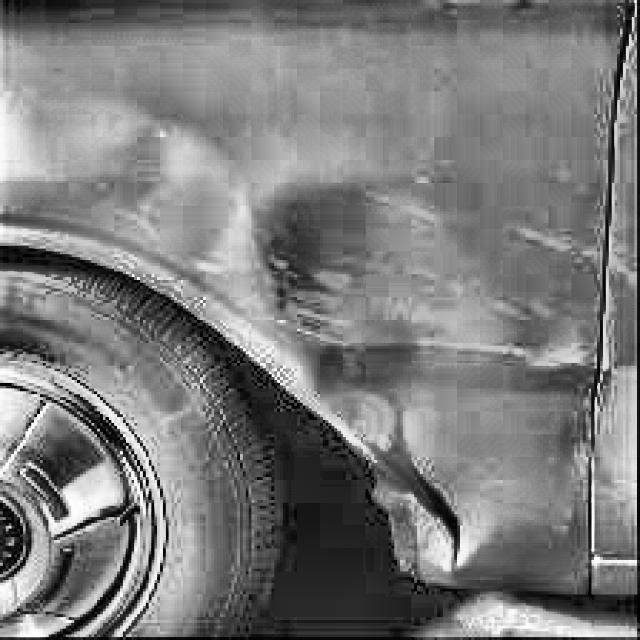door_dent: (255, 166, 440, 453)
